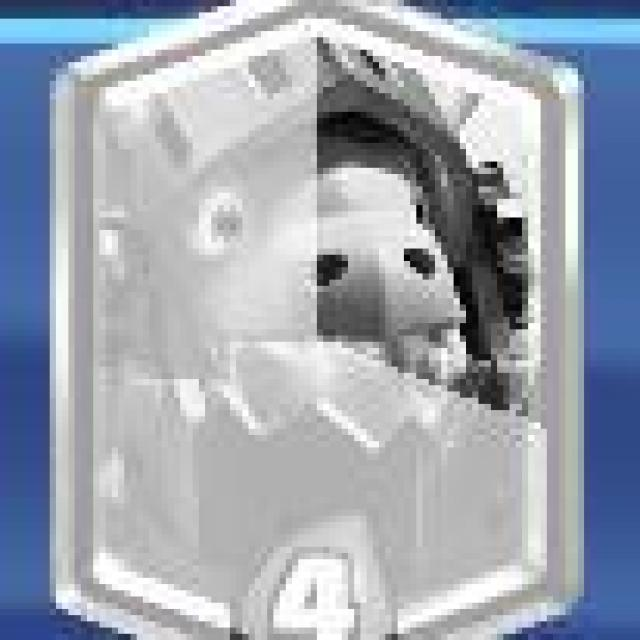Inferno_Dragon: (59, 0, 570, 640)
